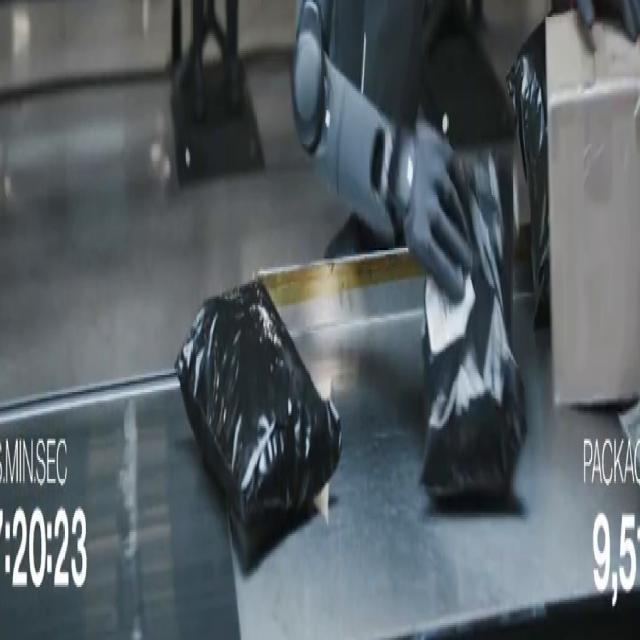package: (175, 282, 341, 531), (546, 13, 639, 404), (422, 155, 526, 500), (507, 22, 549, 328)
